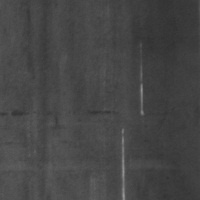scratches: (137, 41, 148, 118), (118, 126, 129, 200)
